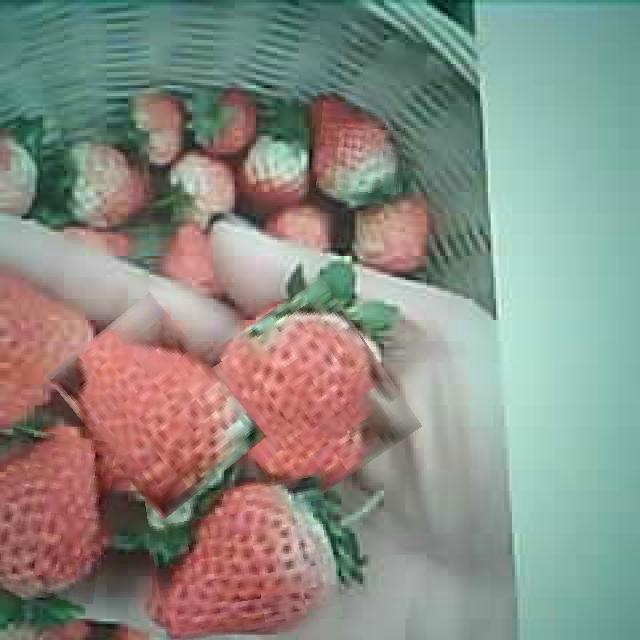strawberry: (210, 292, 404, 500), (68, 303, 246, 510), (150, 480, 338, 638), (0, 430, 112, 600), (311, 92, 405, 204)
